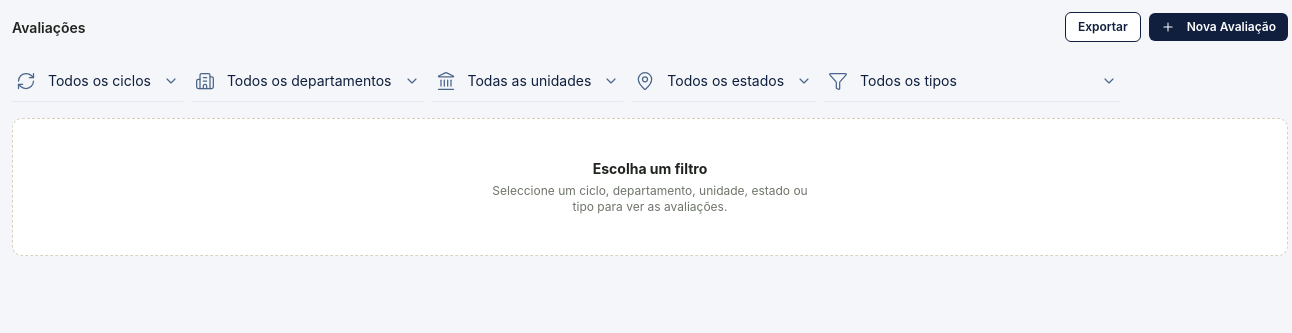
Scenario: EvaluationsTab › lista vazia com filtro mostra EmptyState
Click the dropdown labelled "Todos os estados": x=724, y=80 [631,58,816,102]
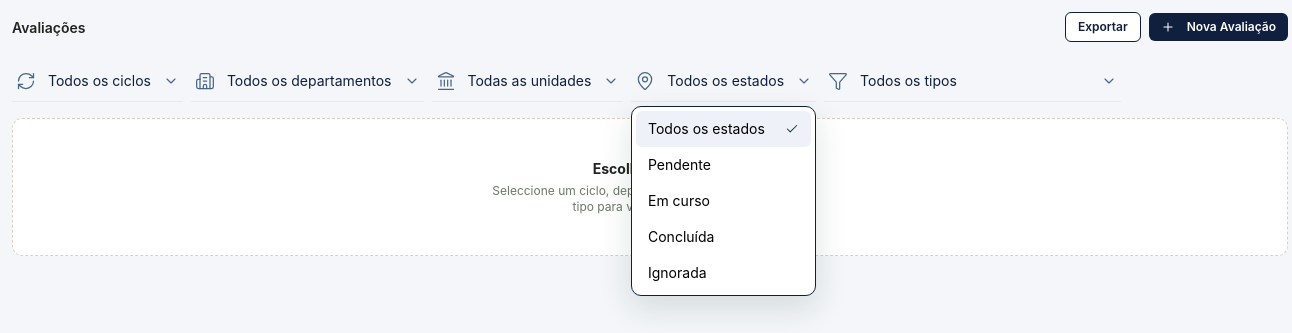
Click the option "Pendente": x=679, y=164 [648,156,711,173]
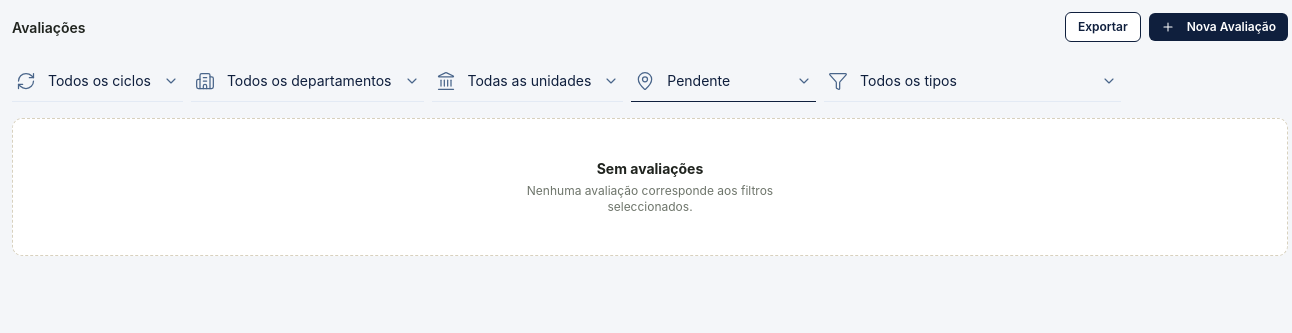
Now the heading "Sem avaliações" is shown, box [597,160,703,177]
